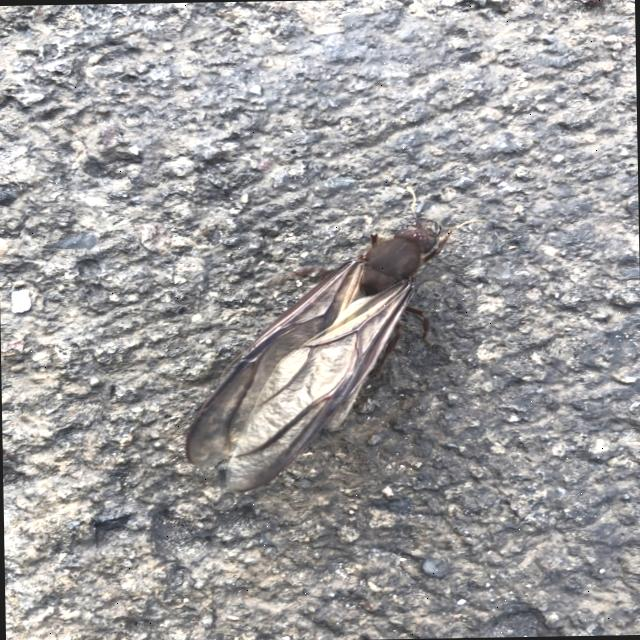Alive-Female-Alate: (180, 185, 491, 493)
